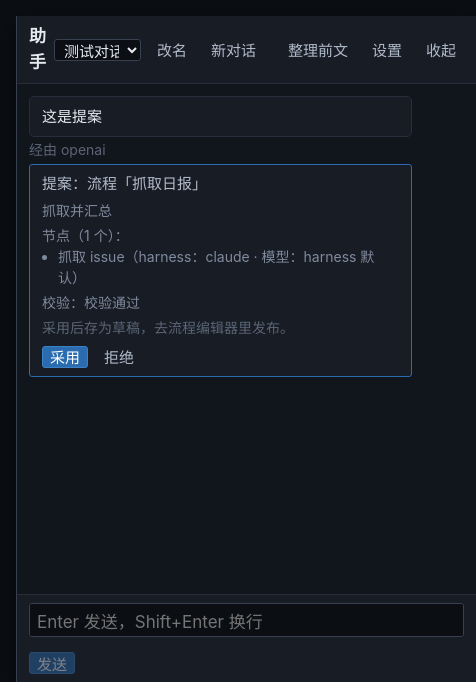
草案卡片 › 渲染提案与节点清单，点「采用」调 endpoint 后显示已采用
expect the text "提案：流程「抓取日报」" is shown: met, box [42, 174, 207, 193]
expect the list item "抓取 issue（harness：claude · 模型：harness 默认）" is shown: met, box [58, 246, 399, 288]
Step 1. Click the button "采用" → click(65, 357), box [42, 346, 88, 368]
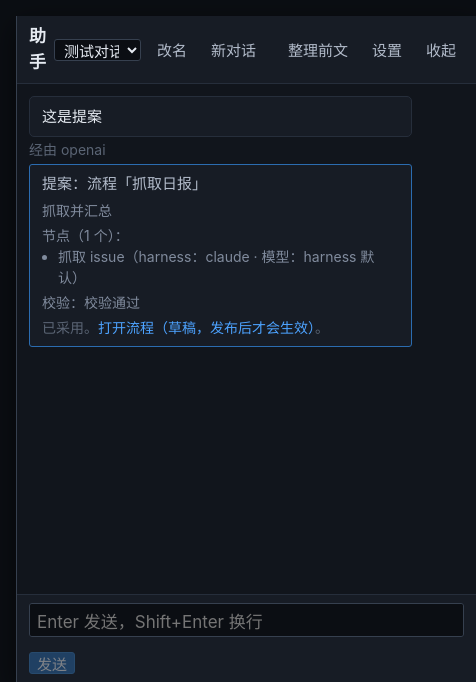
expect the text "已采用。 打开流程（草稿，发布后才会生效） 。" is shown: met, box [42, 319, 329, 336]
